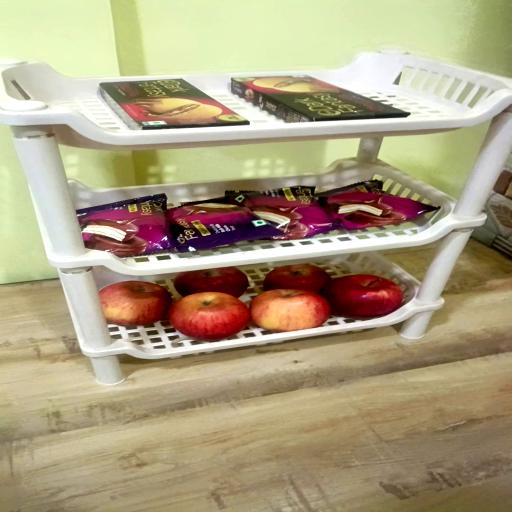Apple: (171, 292, 252, 342), (251, 289, 333, 334), (322, 275, 402, 319), (98, 282, 171, 326), (175, 268, 250, 299), (264, 265, 332, 294)
Choco Fills: (231, 75, 411, 122), (98, 78, 247, 130)
Choco Pie: (76, 195, 176, 259), (170, 199, 282, 253), (226, 185, 333, 240), (318, 183, 439, 231)
